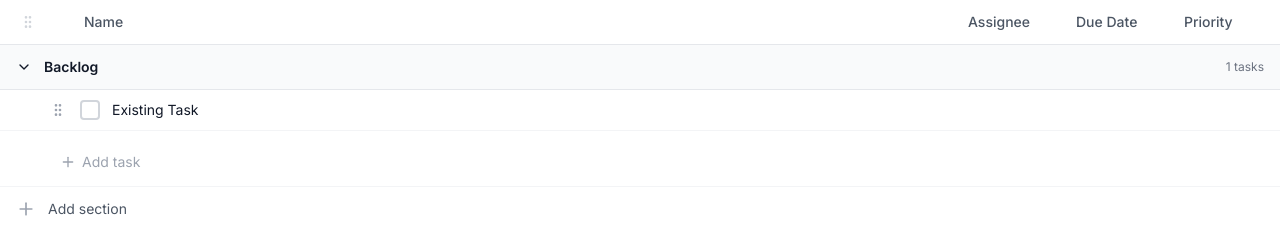
ProjectListView › opens inline task input when "Add task" is clicked
Click the button "Add task" at (111, 162), box 52,146 -> 1264,178
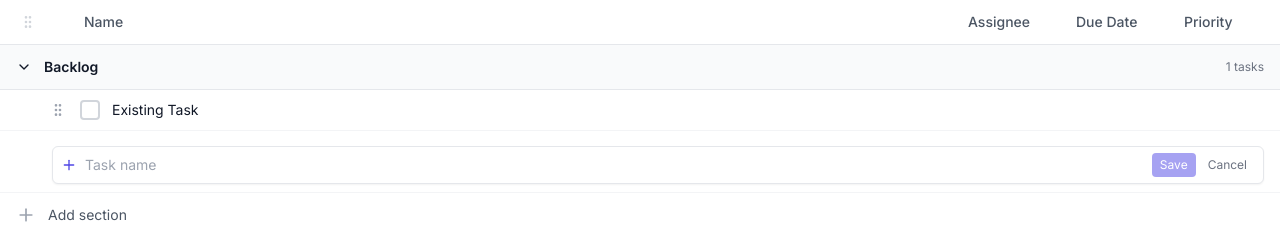
Expected: the field with placeholder "Task name" is shown, 85,155 -> 1144,175
